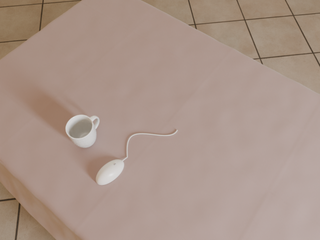cup: (66, 115, 99, 148)
mouse: (96, 160, 124, 185)
